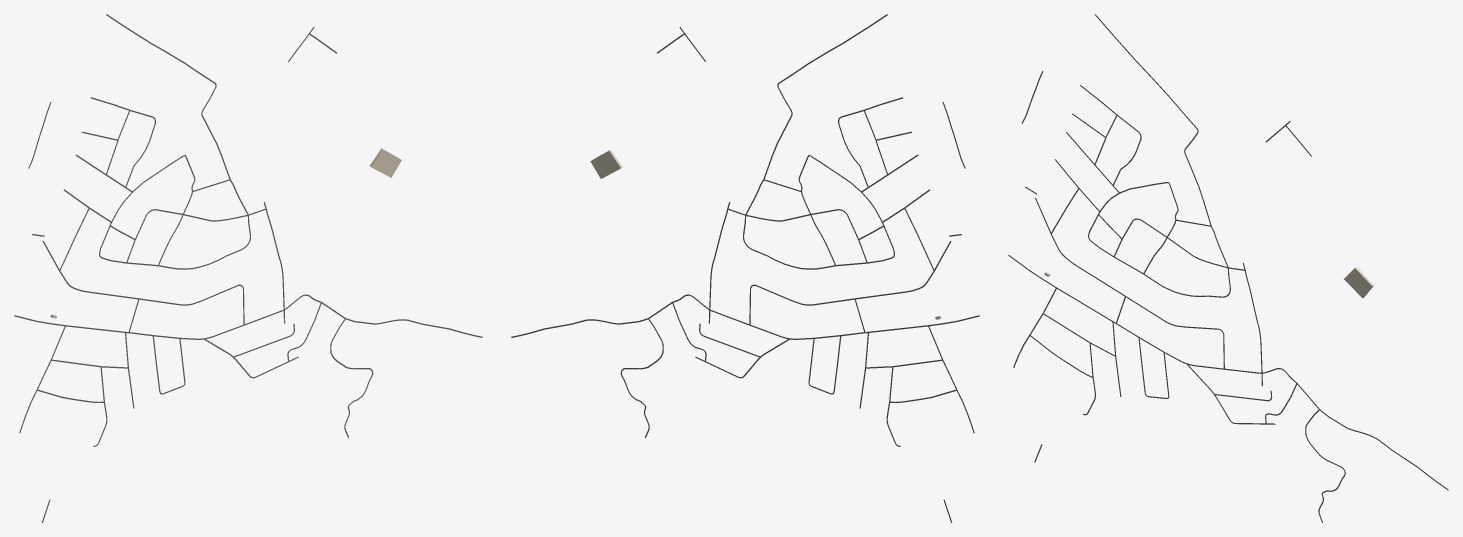
The model's file is amman_3587_3187.glb.
3 views of the same model, side by side, from view 1: azimuth 30°, elevation 25°; view 2: azimuth 150°, elevation 25°; view 3: azimuth 330°, elevation 25° (orthographic). The views are drawn at different scales.
Visible parts, largest first — view 1: Building_.001, Road, Road شارع القمراء; view 2: Building_.001, Road; view 3: no part large enough to name.
Boxes of the visible parts, x1,y1,x2,y2 form: Building_.001: (369,148,401,177); Road: (99,155,250,269); Road شارع القمراء: (14,309,283,339); Building_.001: (590,149,622,178); Road: (743,155,894,269).
Bounding box in the file's own units: 1235 × 1241 × 8.7.
